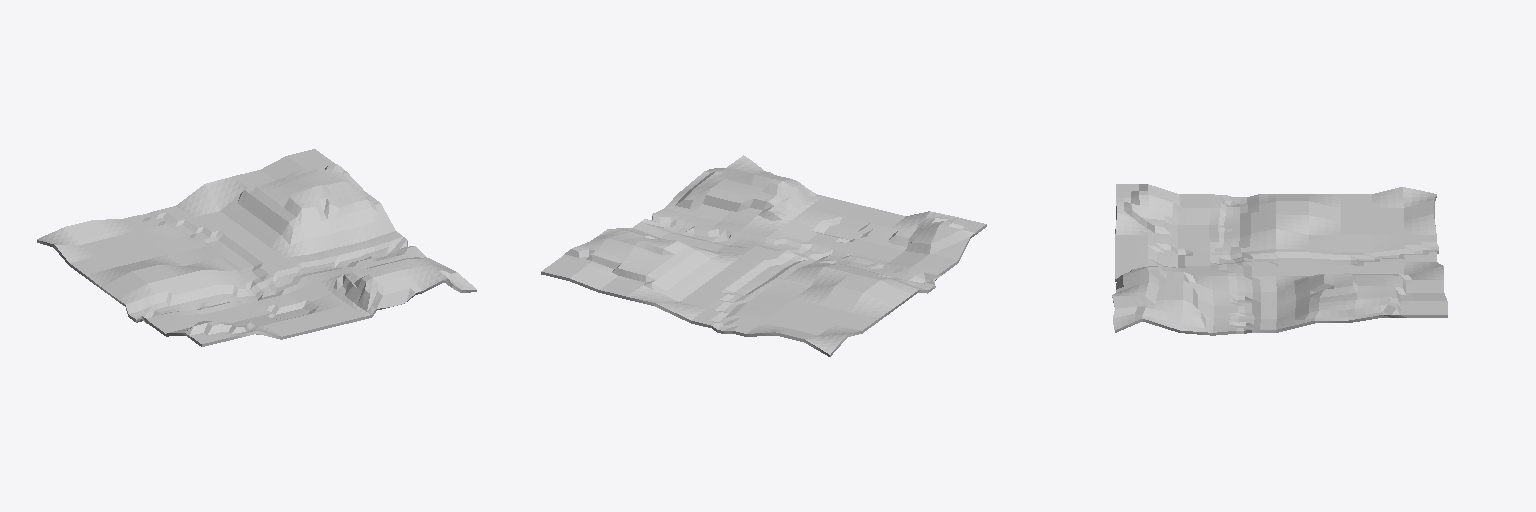
File: mainworld.obj
The picture shows the model from 3 angles: view 1: azimuth 30°, elevation 25°; view 2: azimuth 150°, elevation 25°; view 3: azimuth 270°, elevation 25°; orthographic projection.
Parts seen in each view (by area): view 1: Grid; view 2: Grid; view 3: Grid.
Boxes of the visible parts, x1,y1,x2,y2 form: Grid: [37, 149, 476, 346]; Grid: [541, 155, 986, 356]; Grid: [1112, 184, 1447, 335].
Bounding box in the file's own units: 71.86 × 9.28 × 72.53.